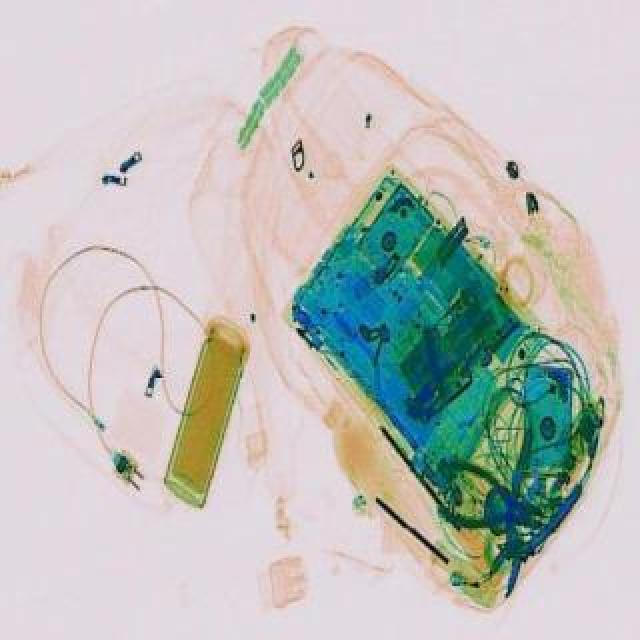wrench: (454, 426, 598, 606), (426, 454, 554, 548)
